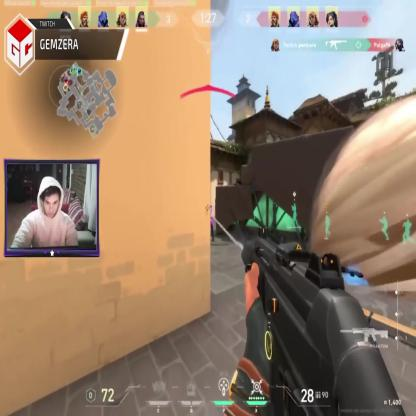enemy: (202, 198, 214, 243)
enemy_head: (204, 199, 210, 208)
